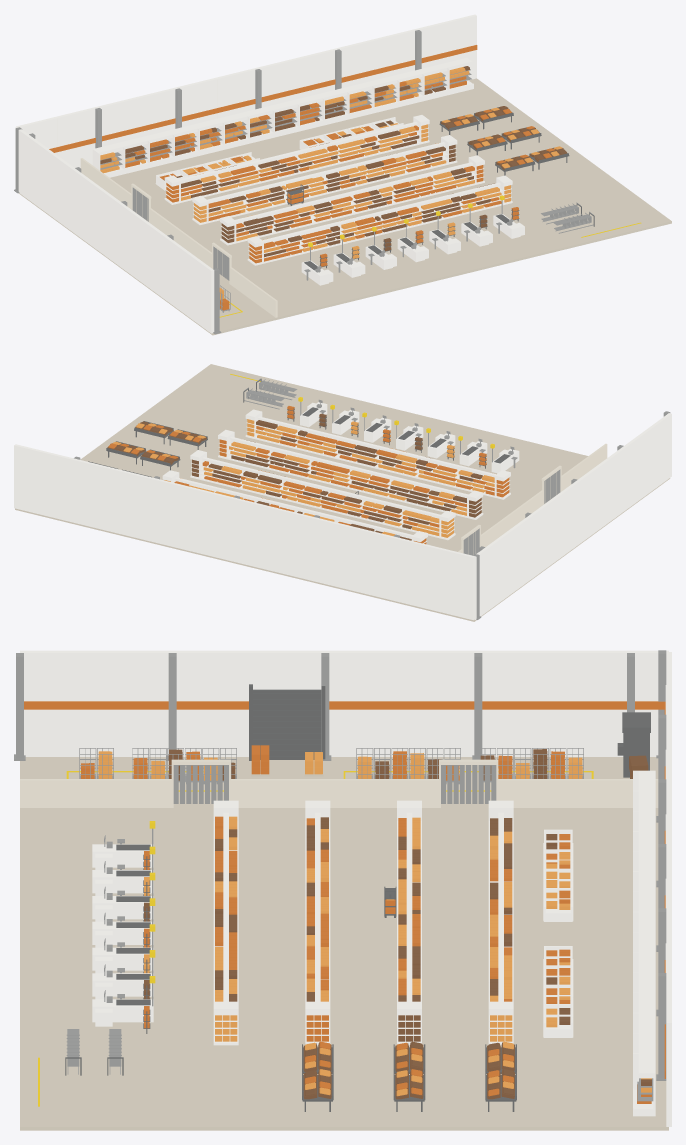
Rendered from grocery.glb.
3 views of the same model, one above another, from view 1: azimuth 30°, elevation 25°; view 2: azimuth 150°, elevation 25°; view 3: azimuth 270°, elevation 25° (orthographic). The views are drawn at different scales.
Visible parts, largest first — view 1: hall_floor, hall_wall_y, hall_wall_x, backroom_wall, hall_wall_y_band, hall_cols_y, backroom_curtains, gondola_2_2, gondola_0_2, gondola_2_1, gondola_2_3, gondola_0_4 (+35 smaller); view 2: hall_wall_y, hall_floor, hall_wall_x, backroom_wall, backroom_curtains, gondola_1_5, gondola_2_5, gondola_2_4, gondola_3_3, gondola_3_1, gondola_1_2, gondola_1_1 (+16 smaller); view 3: hall_floor, hall_wall_x, backroom_wall, backroom_dock, hall_wall_x_band, hall_cols_x, backroom_curtains, hall_cols_y, hall_wall_y, backroom_baler, checkout_6, checkout_3 (+12 smaller).
Boxes of the visible parts, x1,y1,x2,y2 form: hall_floor: (18, 78, 671, 335); hall_wall_y: (16, 14, 476, 167); hall_wall_x: (15, 127, 214, 333); backroom_wall: (80, 158, 277, 317); hall_wall_y_band: (49, 45, 477, 152); hall_cols_y: (14, 30, 421, 193); backroom_curtains: (132, 187, 229, 280); gondola_2_2: (312, 191, 356, 223); gondola_0_2: (257, 151, 300, 183); gondola_2_1: (272, 201, 316, 233); gondola_2_3: (352, 181, 395, 213); gondola_0_4: (336, 131, 380, 163); hall_wall_y: (14, 444, 474, 620); hall_floor: (15, 364, 670, 621); hall_wall_x: (474, 413, 671, 619); backroom_wall: (458, 443, 607, 553); backroom_curtains: (463, 469, 560, 555); gondola_1_5: (199, 457, 243, 489); gondola_2_5: (227, 437, 271, 468); gondola_2_4: (267, 446, 311, 478); gondola_3_3: (334, 436, 378, 468); gondola_3_1: (414, 455, 458, 487); gondola_1_2: (319, 486, 363, 518); gondola_1_1: (359, 496, 403, 528); hall_floor: (20, 757, 668, 1130); hall_wall_x: (20, 650, 668, 756); backroom_wall: (20, 759, 658, 807); backroom_dock: (249, 684, 325, 760); hall_wall_x_band: (24, 701, 665, 709); hall_cols_x: (14, 653, 634, 760); backroom_curtains: (173, 765, 496, 803); hall_cols_y: (656, 650, 666, 1080); hall_wall_y: (665, 652, 671, 1126); backroom_baler: (617, 712, 650, 777); checkout_6: (92, 999, 153, 1026); checkout_3: (92, 921, 153, 947).
Size of the model in its own units: 46.31 by 6.22 by 34.46.
